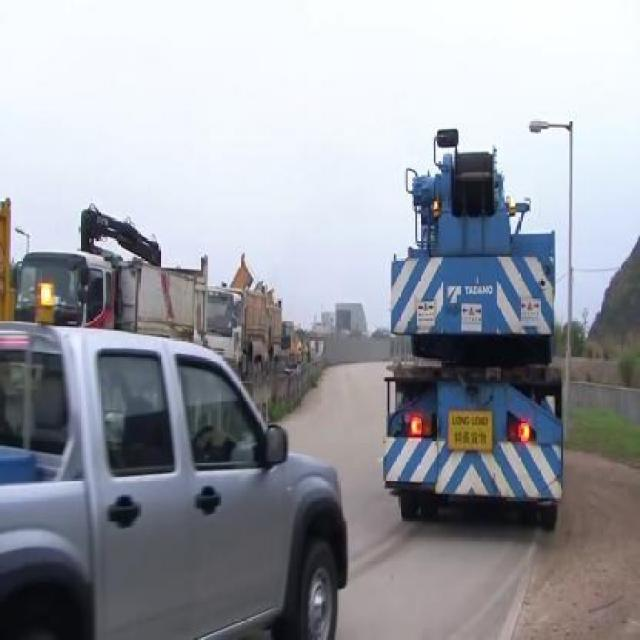Mobile Crane: (386, 145, 562, 527)
